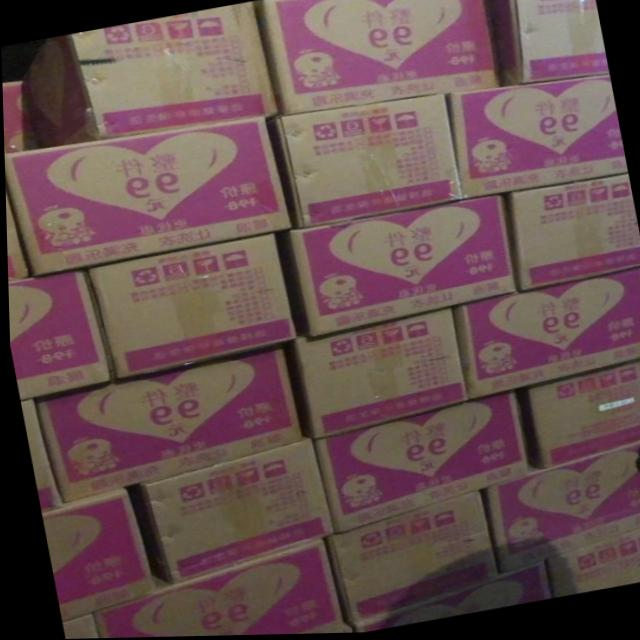box: (4, 120, 288, 276), (33, 350, 301, 503), (20, 2, 277, 152), (290, 197, 516, 336), (310, 390, 526, 535), (89, 235, 295, 379), (258, 0, 502, 119), (144, 439, 329, 583), (454, 271, 640, 401), (91, 542, 340, 639), (275, 95, 456, 228), (289, 307, 465, 441), (324, 494, 498, 624), (450, 78, 627, 202), (482, 444, 640, 574), (506, 178, 640, 294), (39, 492, 153, 623), (7, 269, 108, 399), (526, 360, 640, 470), (484, 0, 609, 89), (544, 530, 640, 600), (18, 399, 64, 513), (4, 180, 28, 282), (2, 80, 32, 154), (60, 612, 98, 639)
